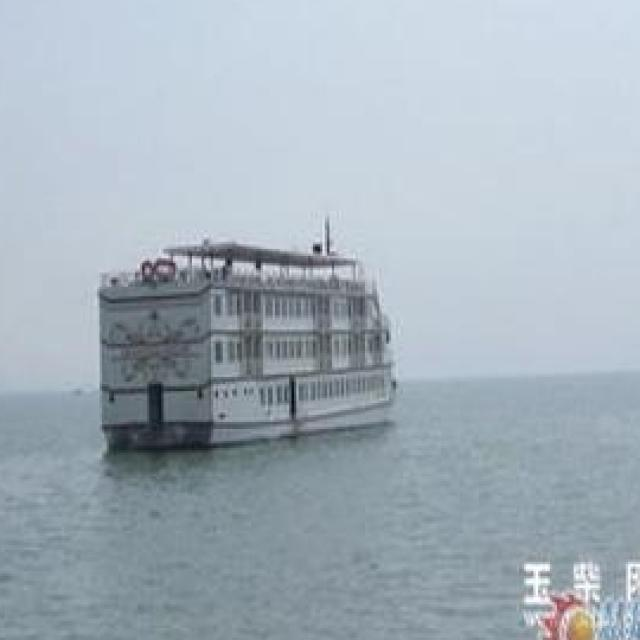passenger ship: (87, 227, 410, 438)
